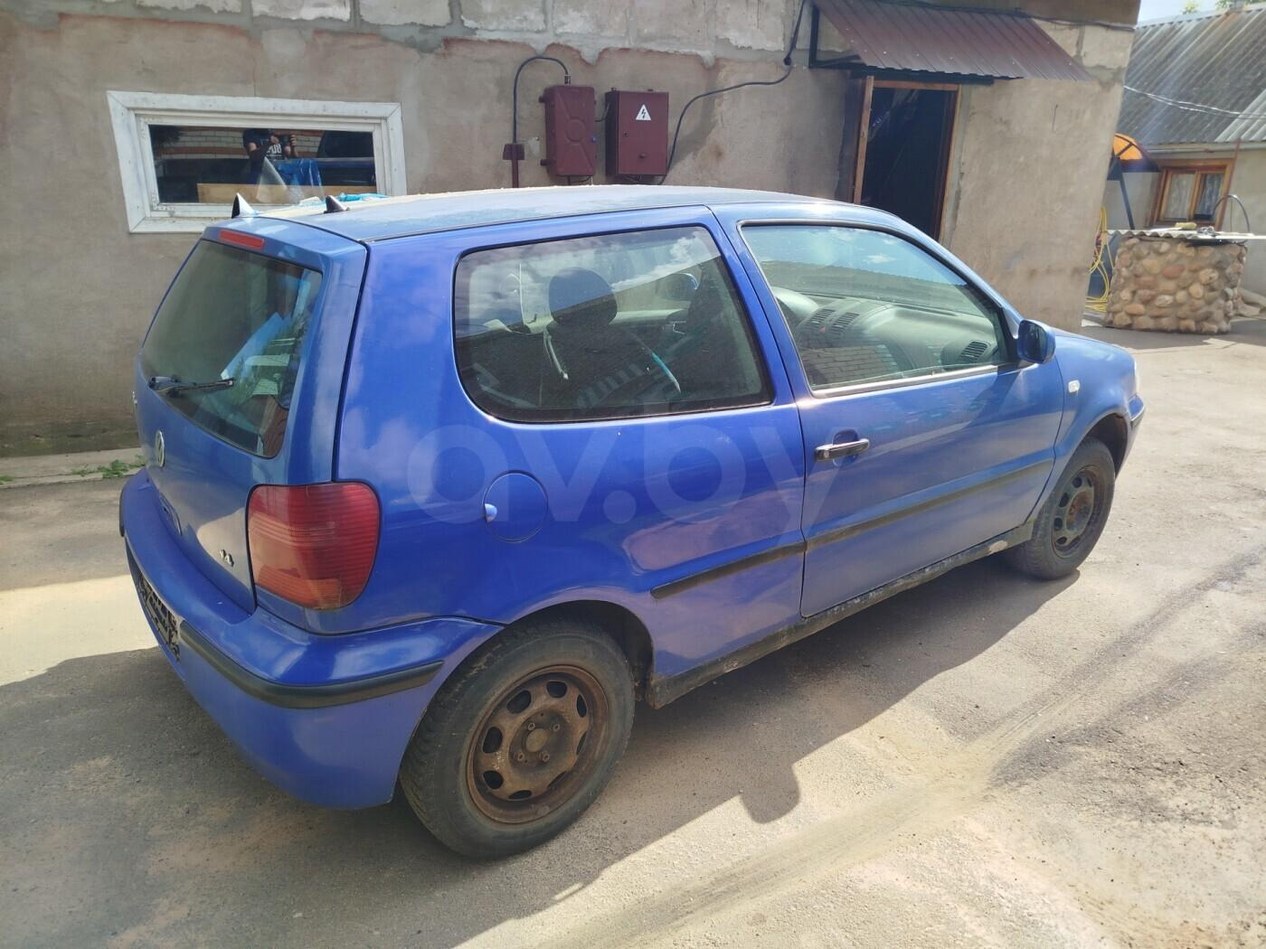Polo_2000-2002: (110, 170, 1148, 870)
